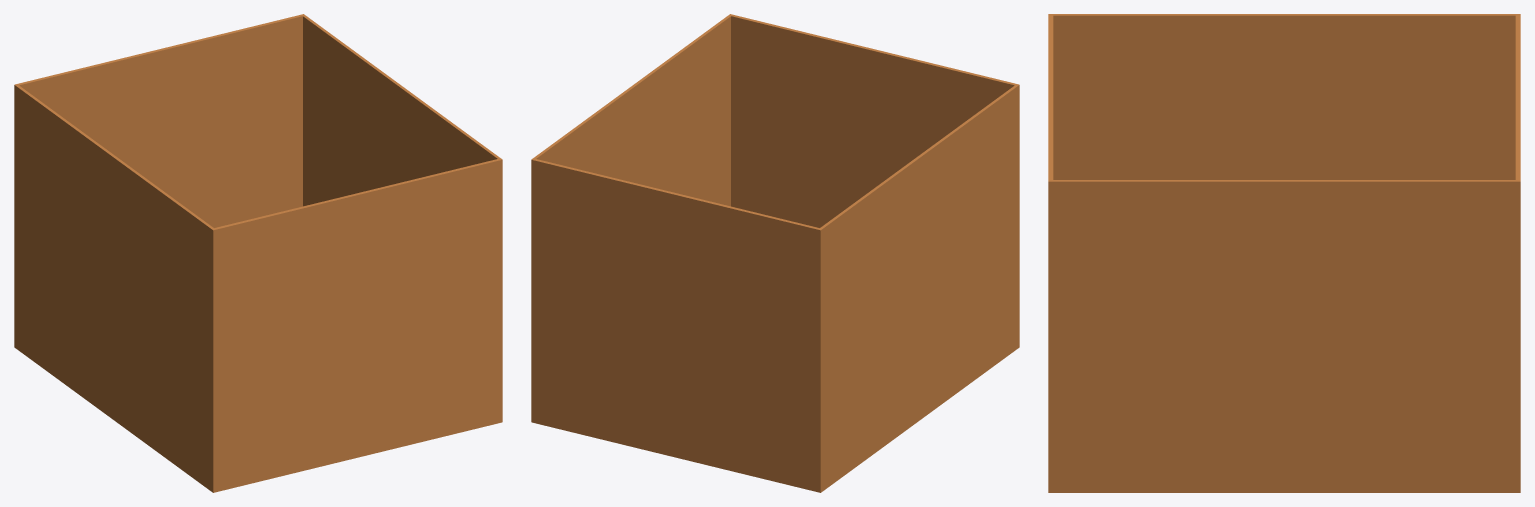
The model's file is thinkpadBox_taller.dae.
The picture shows the model from 3 angles, left to right: view 1: azimuth 30°, elevation 25°; view 2: azimuth 150°, elevation 25°; view 3: azimuth 270°, elevation 25°; orthographic projection. The views are drawn at different scales.
Visible parts, largest first — view 1: Cube; view 2: Cube; view 3: Cube.
Boxes of the visible parts, box(x1,y1,x2,y2) form: Cube: box(14, 14, 502, 492); Cube: box(531, 14, 1019, 492); Cube: box(1048, 14, 1520, 492).
Bounding box in the file's own units: 0.21 × 0.25 × 0.182.
